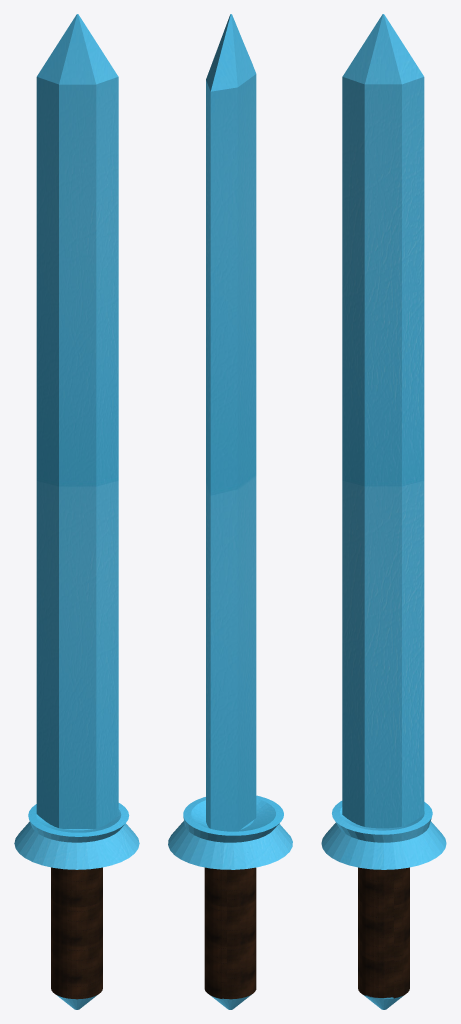
Rendered from CrystalSwordFinal.fbx.
3 views of the same model, side by side, from view 1: azimuth 90°, elevation 25°; view 2: azimuth 150°, elevation 25°; view 3: azimuth 270°, elevation 25° (orthographic).
Visible parts, largest first — view 1: Blade; view 2: Blade; view 3: Blade.
Part boxes in pixels (box(x1,y1,x2,y2)): Blade: box(14, 14, 139, 1009); Blade: box(168, 14, 292, 1009); Blade: box(321, 14, 446, 1009).
Bounding box in the file's own units: 30.48 × 267 × 30.48.
Materials: 2 (2 with a texture image).
